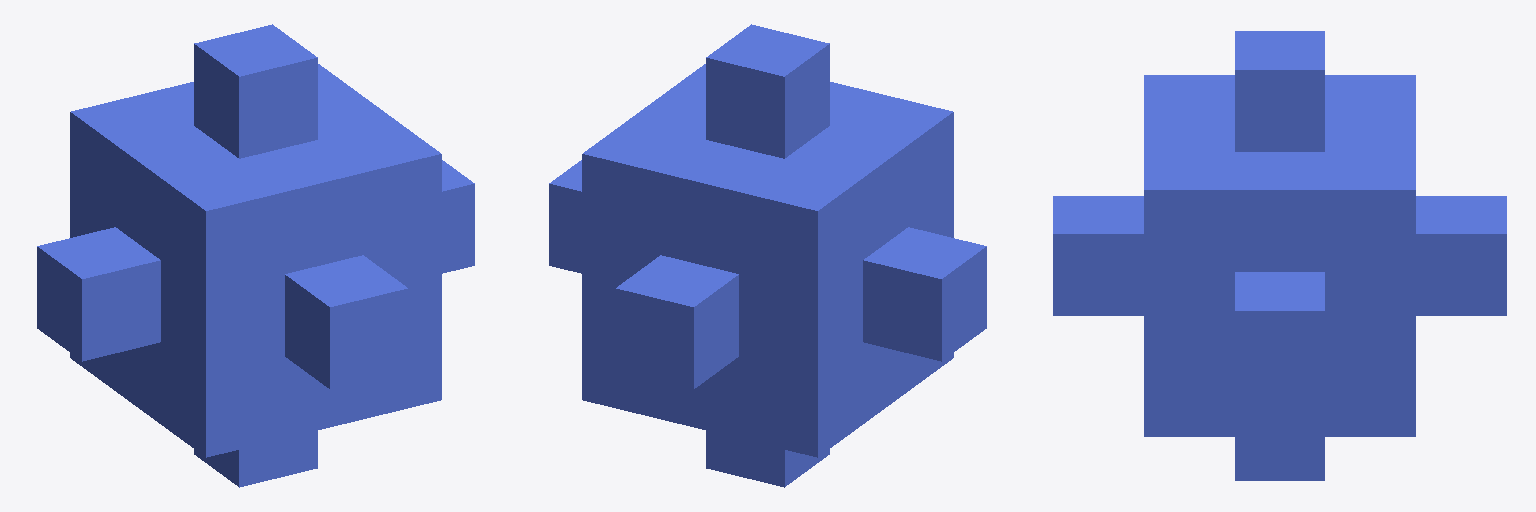
File: outside_ball_cube.obj
3 views of the same model, side by side, from view 1: azimuth 30°, elevation 25°; view 2: azimuth 150°, elevation 25°; view 3: azimuth 270°, elevation 25° (orthographic).
Visible parts, largest first — view 1: Outside_ball_cube; view 2: Outside_ball_cube; view 3: Outside_ball_cube.
Part boxes in pixels (left/top/right/bottom): Outside_ball_cube: left=37, top=24, right=474, bottom=487; Outside_ball_cube: left=549, top=24, right=986, bottom=487; Outside_ball_cube: left=1053, top=31, right=1506, bottom=480.
Size of the model in its own units: 0.2 by 0.2 by 0.2.